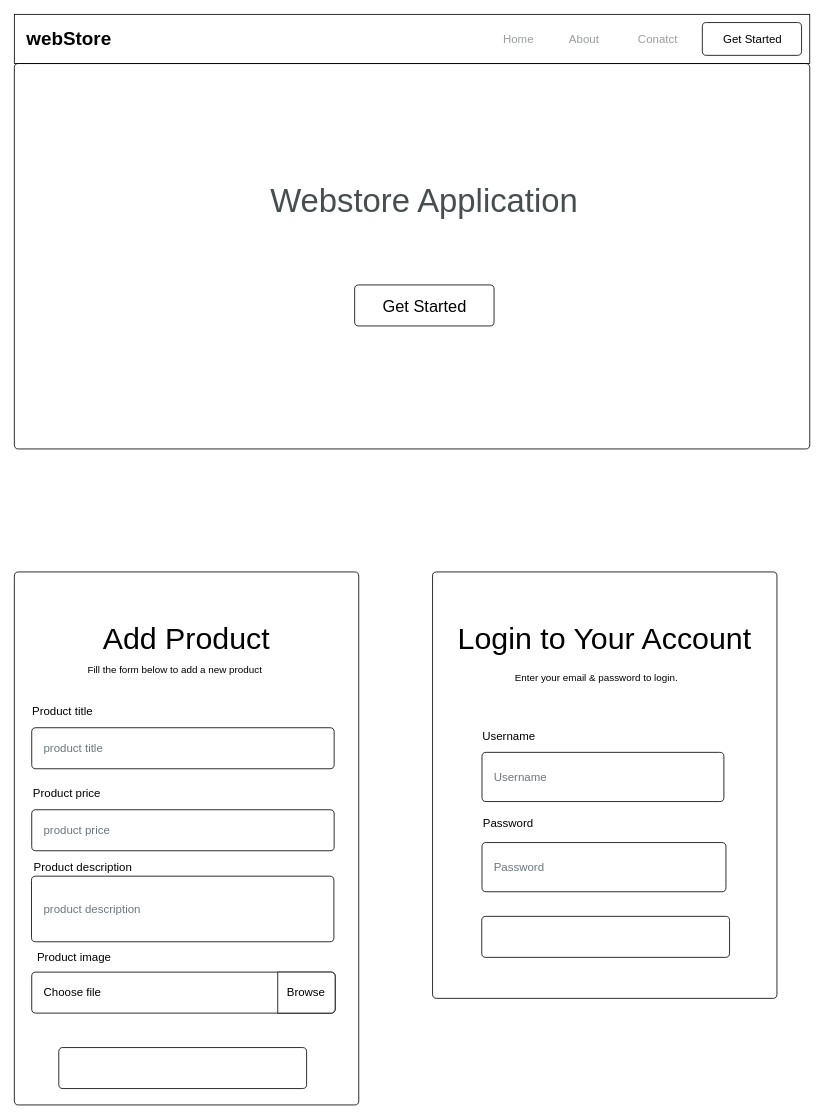
The diagram is 824 pixels wide and 1119 high, and some of its shapes have lost their labels. The centre of each missing label's shape, as x and y in pixels:
"Login" belongs at pixel 605 936.
"Save" belongs at pixel 182 1068.
